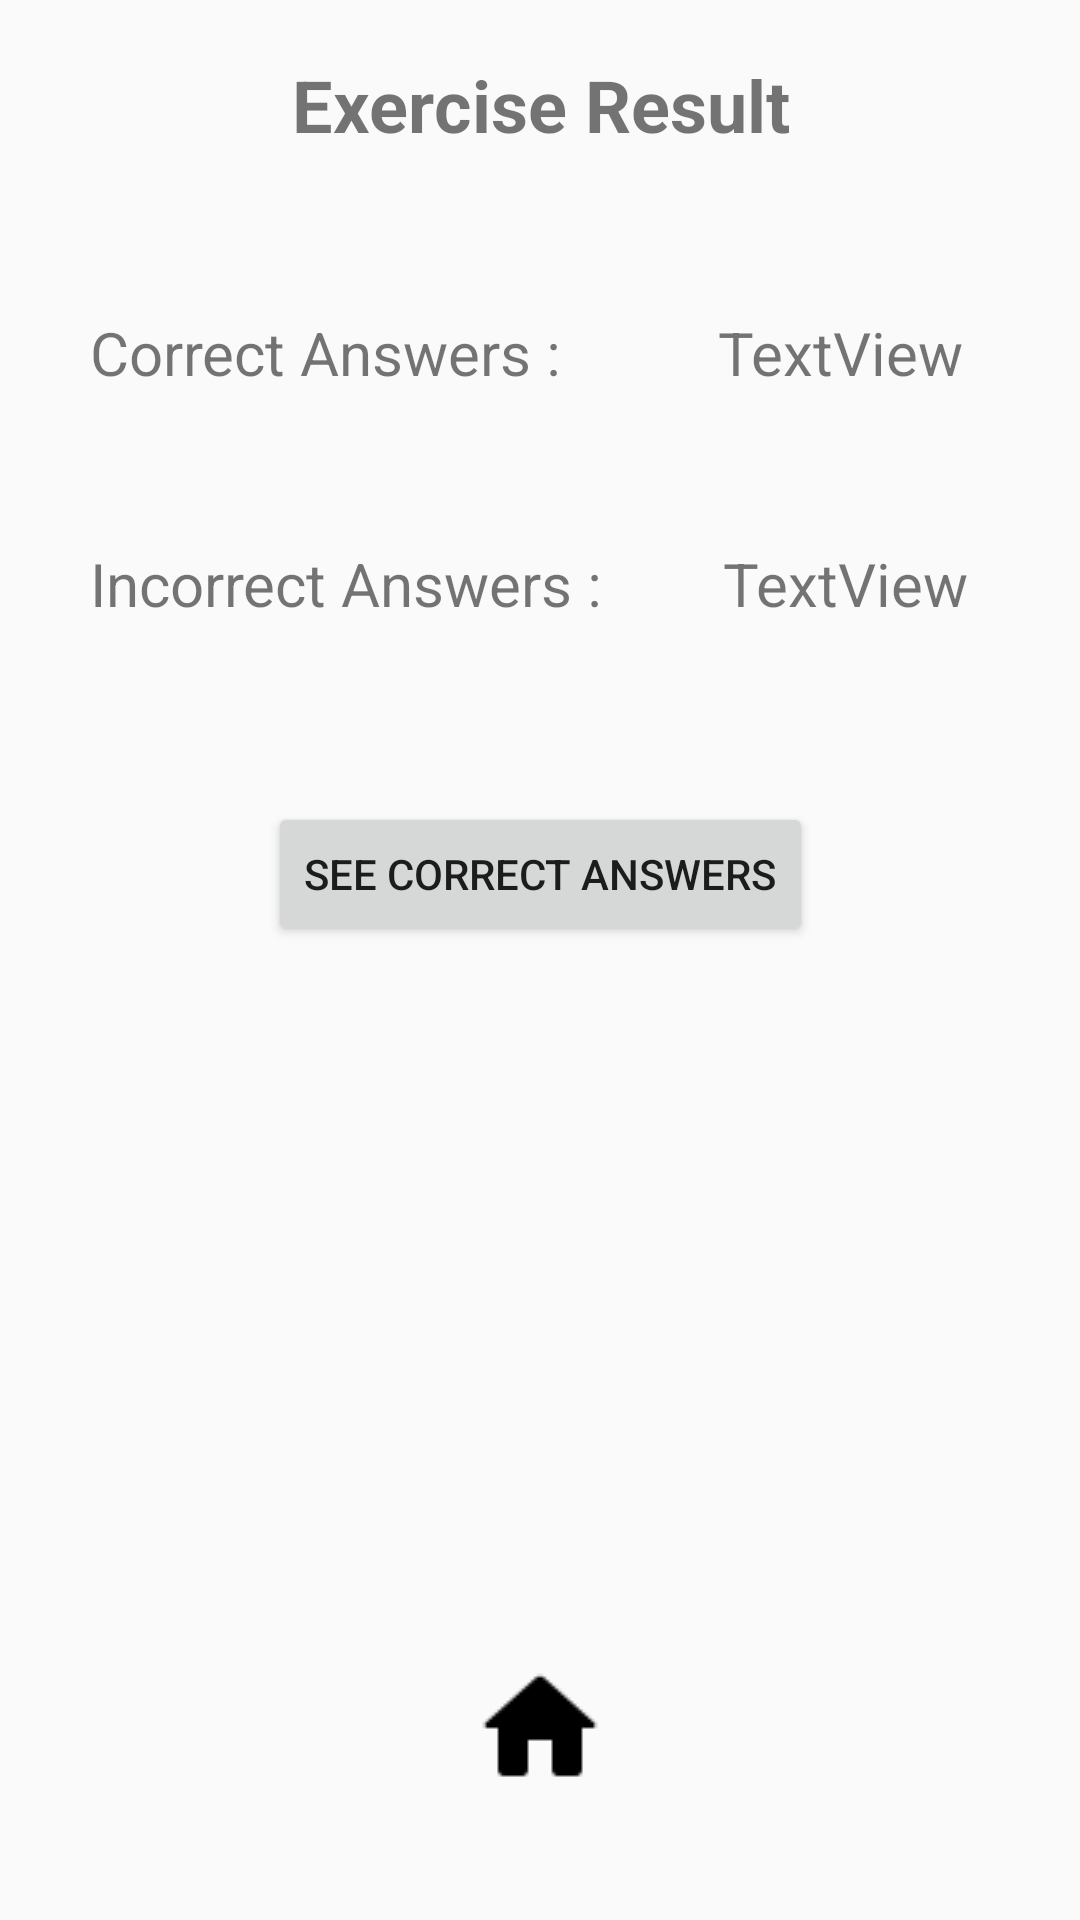

Icons on this 1080*1920 Android screen, each with the point to tap as (x,y):
home: (540,1725)
